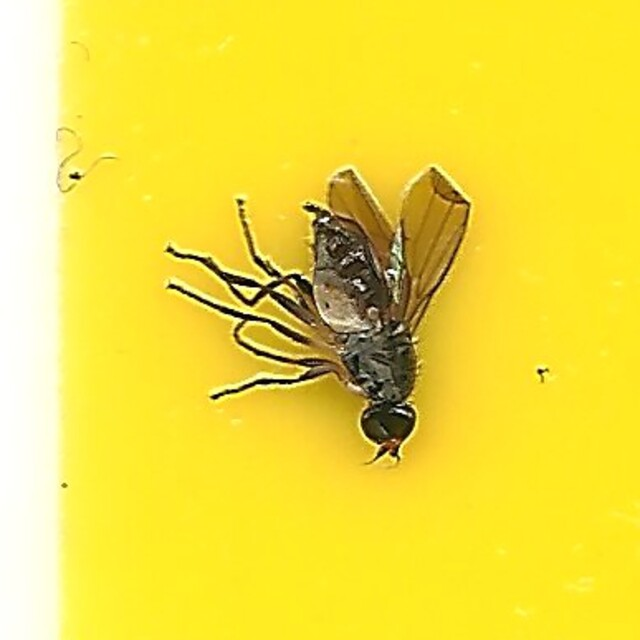Brachycera: (165, 167, 475, 473)
